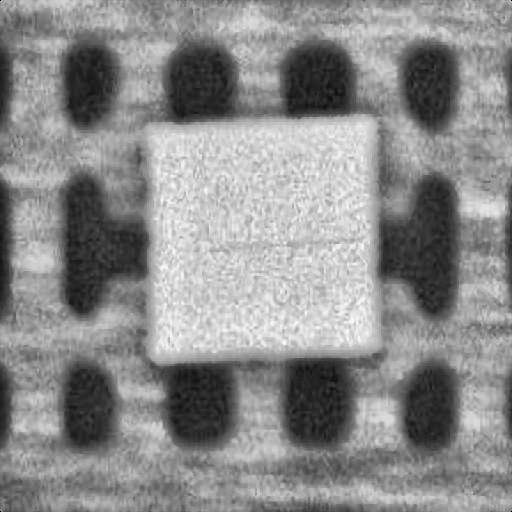DIE_CRACK: (310, 158, 512, 166)
